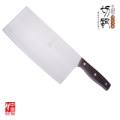knief: (3, 9, 111, 89)
